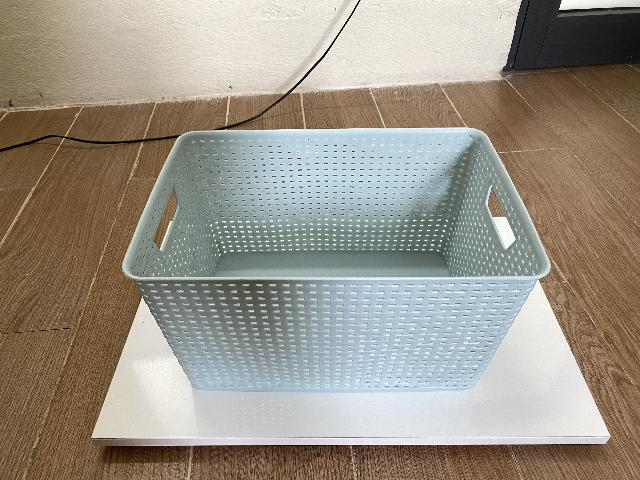cart: (122, 128, 551, 395)
